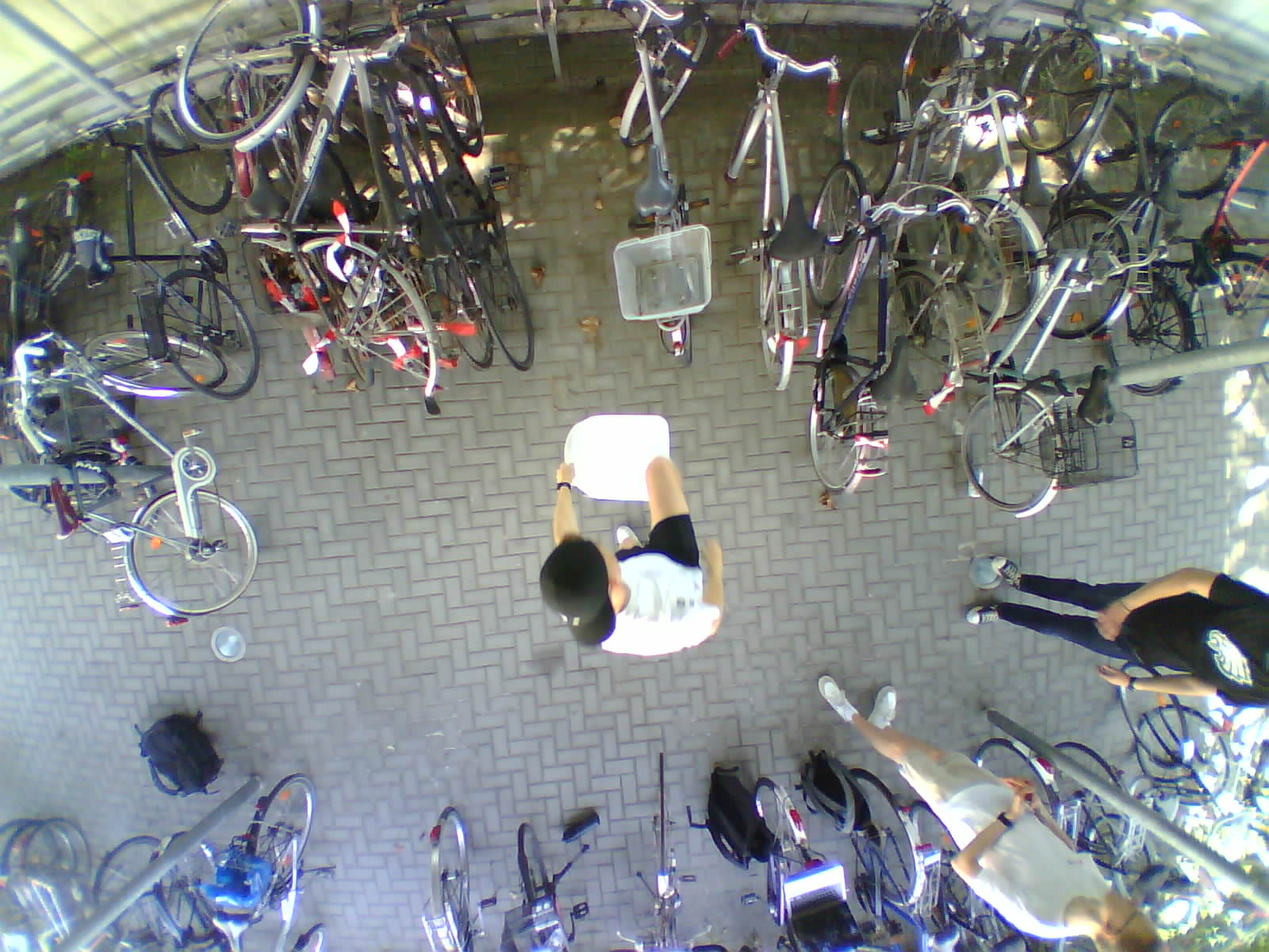bicylce: (401, 0, 534, 373), (86, 330, 253, 620), (892, 11, 1040, 328), (951, 192, 1093, 517), (1010, 11, 1143, 356), (604, 0, 714, 377), (1083, 90, 1211, 405), (126, 88, 255, 397), (727, 15, 825, 397), (812, 159, 913, 502), (217, 768, 328, 952)
saddle: (759, 195, 827, 264), (624, 142, 682, 214), (1072, 362, 1123, 429), (875, 334, 922, 403), (1147, 144, 1194, 212), (412, 187, 456, 259), (1010, 150, 1055, 206), (42, 474, 81, 536), (1179, 238, 1226, 289), (81, 232, 120, 289), (206, 913, 253, 952)
